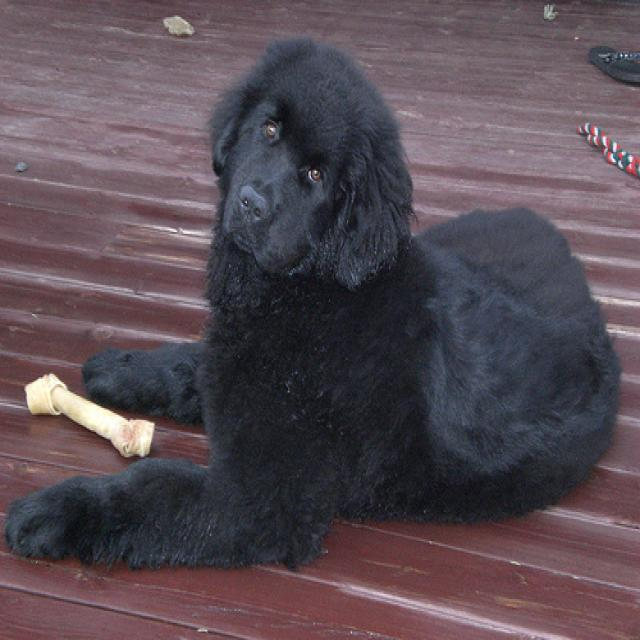dog-newfoundland: (1, 29, 623, 585)
